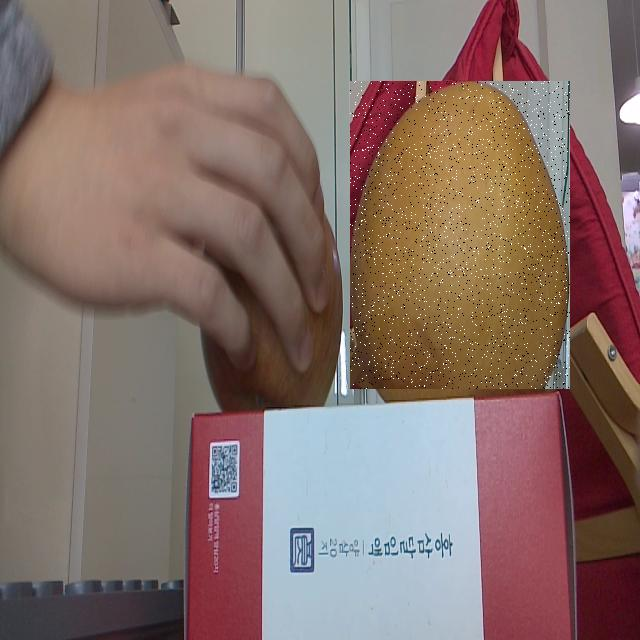pear: (350, 81, 570, 389)
